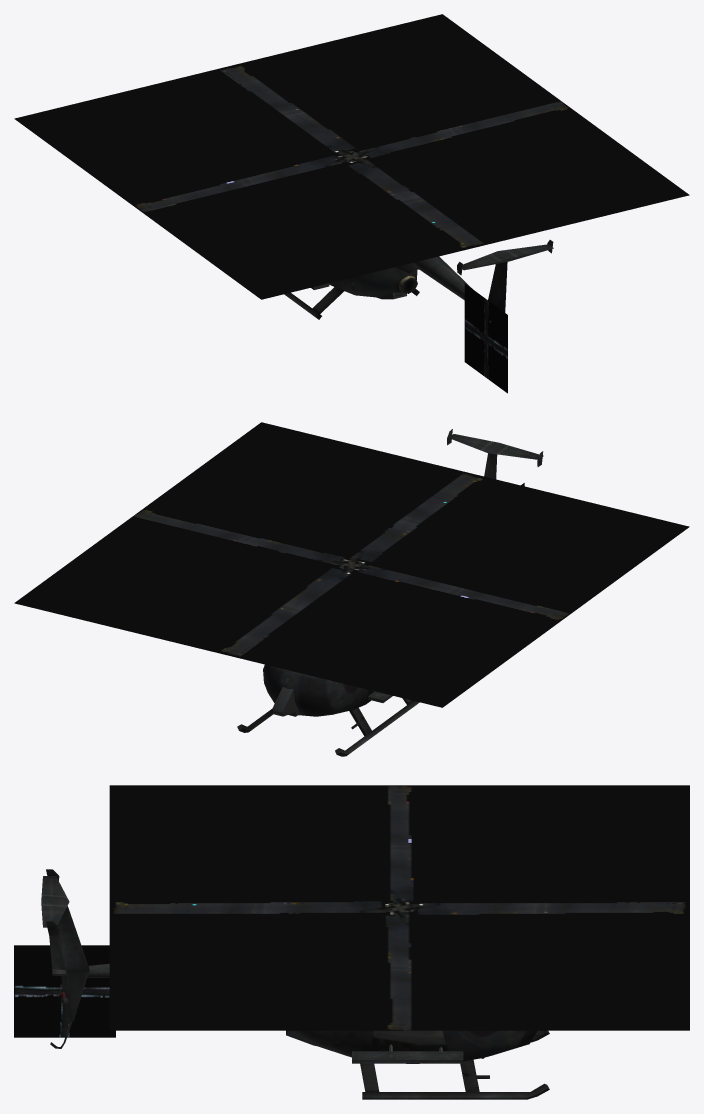
3 renders of one model, top to bottom at view 1: azimuth 30°, elevation 25°; view 2: azimuth 150°, elevation 25°; view 3: azimuth 270°, elevation 25°, orthographic. The views are drawn at different scales.
Parts seen in each view (by area): view 1: top_rotor001, mesh-0, rear_rotor001; view 2: top_rotor001, mesh-0; view 3: top_rotor001, mesh-0, rear_rotor001.
Boxes of the visible parts, x1,y1,x2,y2 form: top_rotor001: (14,14,689,299); mesh-0: (284,240,553,319); rear_rotor001: (464,283,507,393); top_rotor001: (14,422,689,707); mesh-0: (237,429,543,756); top_rotor001: (109,785,689,1030); mesh-0: (41,869,549,1099); rear_rotor001: (14,945,115,1037).
Bounding box in the file's own units: 8.03 × 2.74 × 9.36.
Materials: 3 (3 with a texture image).
